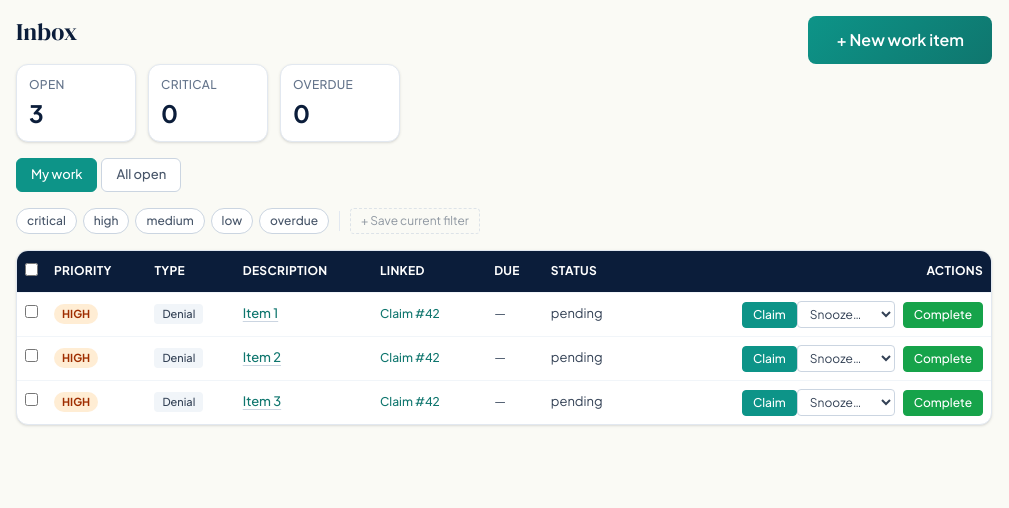
Test: InboxPage › bulk actions › select-all checkbox toggles every row
The width and height of the screenshot is (1009, 508).
Click the checkbox named "Select all items": [32, 269] box [25,262,38,276]
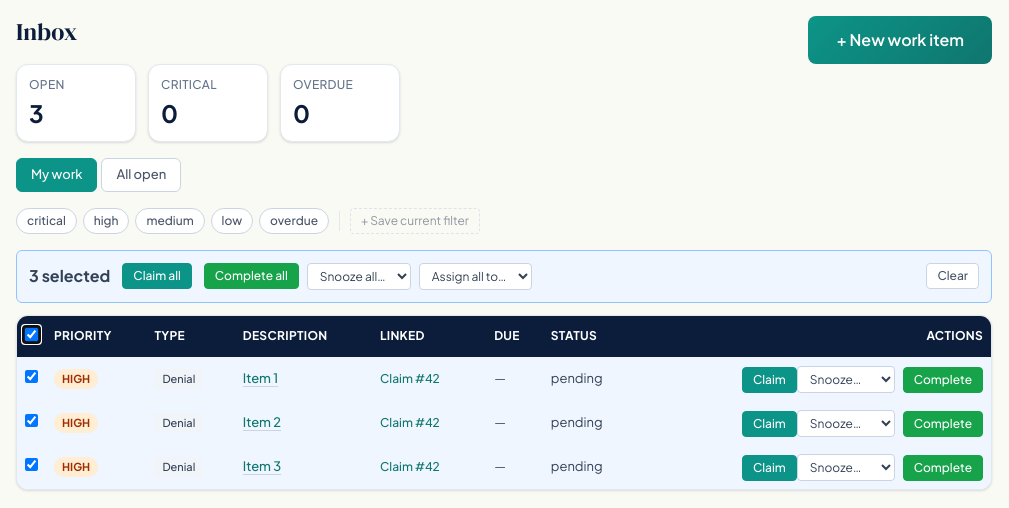
Result: the text "3 selected" is shown at [29,264,110,288]
Note: Toggle off
Click the checkbox named "Select all items": [32, 334] box [25,328,38,340]
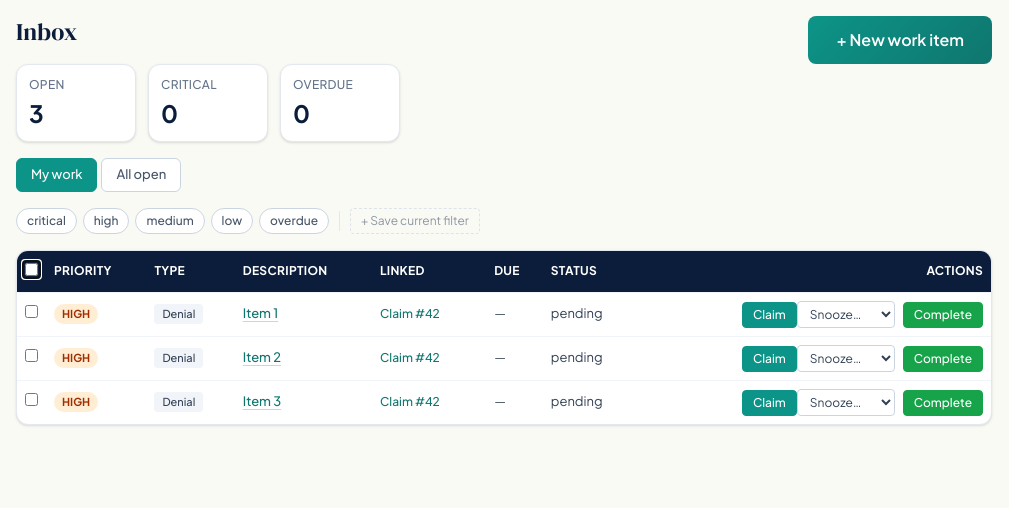
Result: the text "selected" is gone
